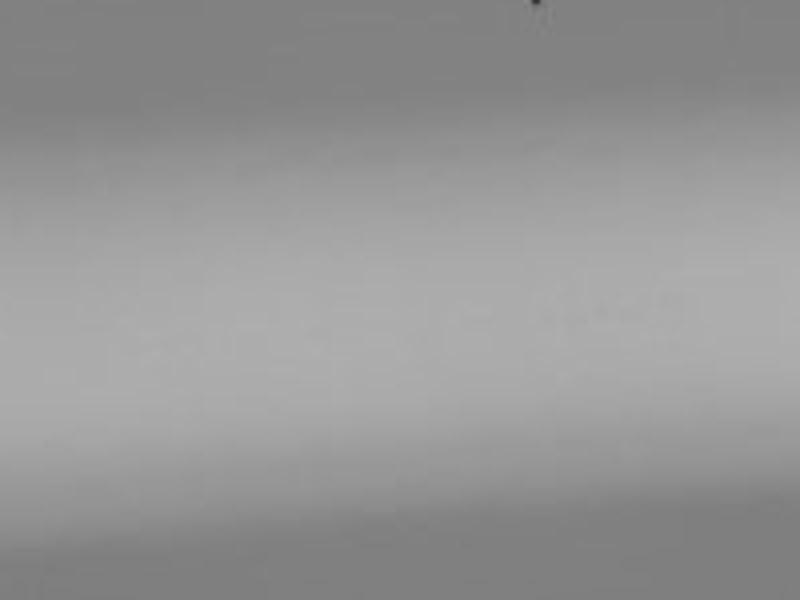defect: (530, 1, 540, 6)
